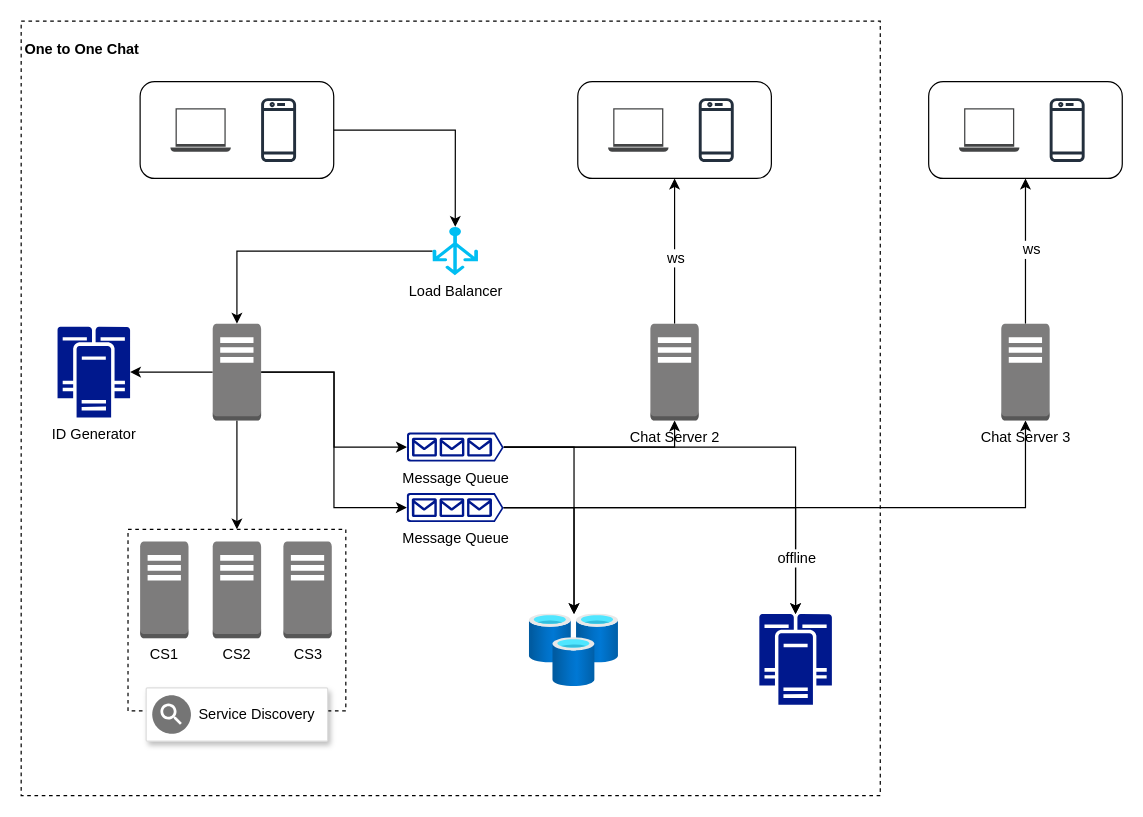
The diagram is 1143 pixels wide and 817 high, and some of its shapes have lost their labels. The centre of each missing label's shape, as x and y in pixels:
Chat Server 1: the point at 236,371
Key Value Store: the point at 573,649
Push Notification Server: the point at 795,658
